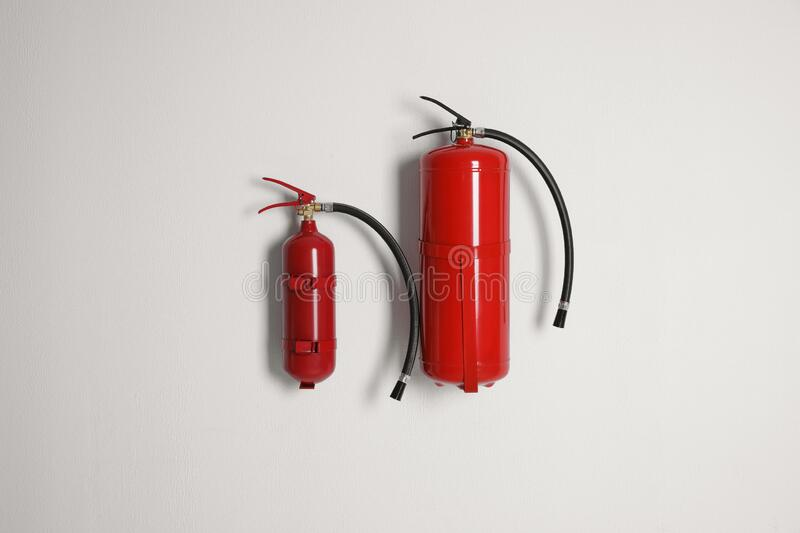fire_extinguisher: (411, 95, 575, 394), (256, 176, 419, 400)
